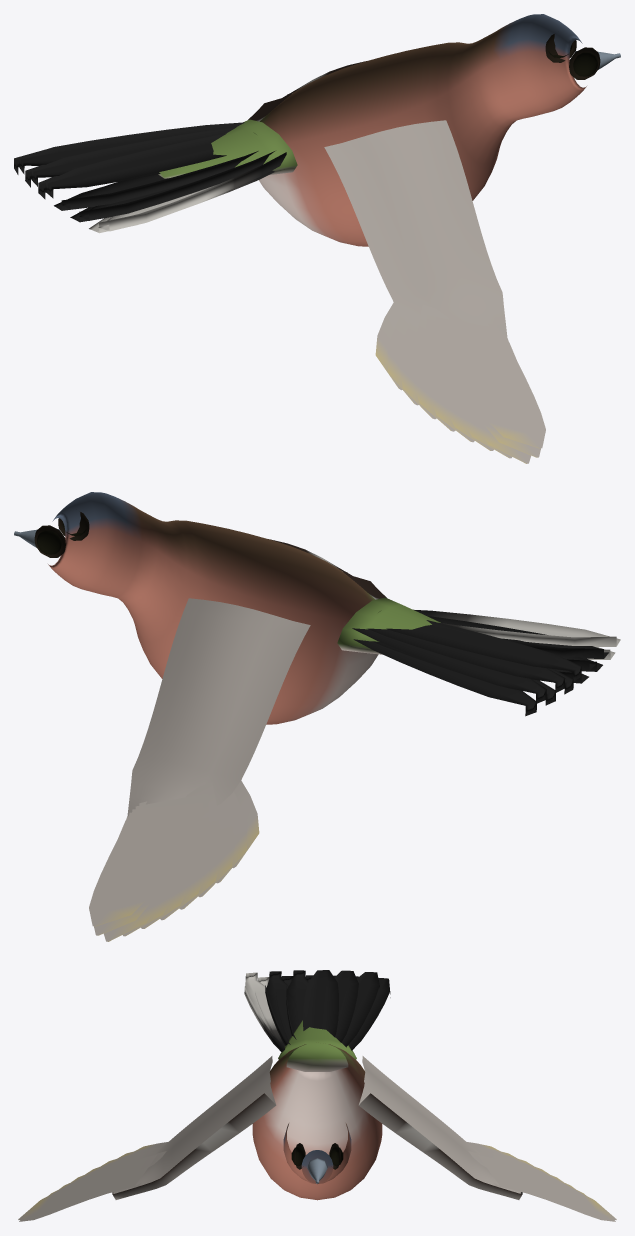
Rendered from SM_Bird_chaffinch_flap2.glb.
The picture shows the model from 3 angles, top to bottom: view 1: azimuth 30°, elevation 25°; view 2: azimuth 150°, elevation 25°; view 3: azimuth 270°, elevation 25°; orthographic projection. The views are drawn at different scales.
Parts seen in each view (by area): view 1: SM_Bird_chaffinch_flap2; view 2: SM_Bird_chaffinch_flap2; view 3: SM_Bird_chaffinch_flap2.
Boxes of the visible parts, x1=… form: SM_Bird_chaffinch_flap2: x1=14, y1=14, x2=620, y2=463; SM_Bird_chaffinch_flap2: x1=14, y1=492, x2=620, y2=941; SM_Bird_chaffinch_flap2: x1=18, y1=970, x2=616, y2=1221.
Bounding box in the file's own units: 0.1714 × 0.0721 × 0.2114.
